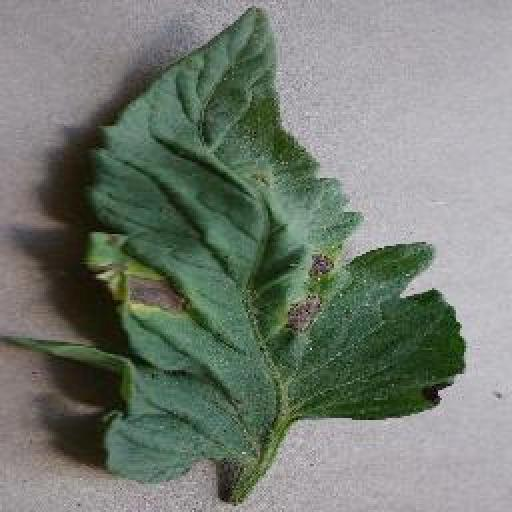disease_tomato: (88, 6, 466, 478)
